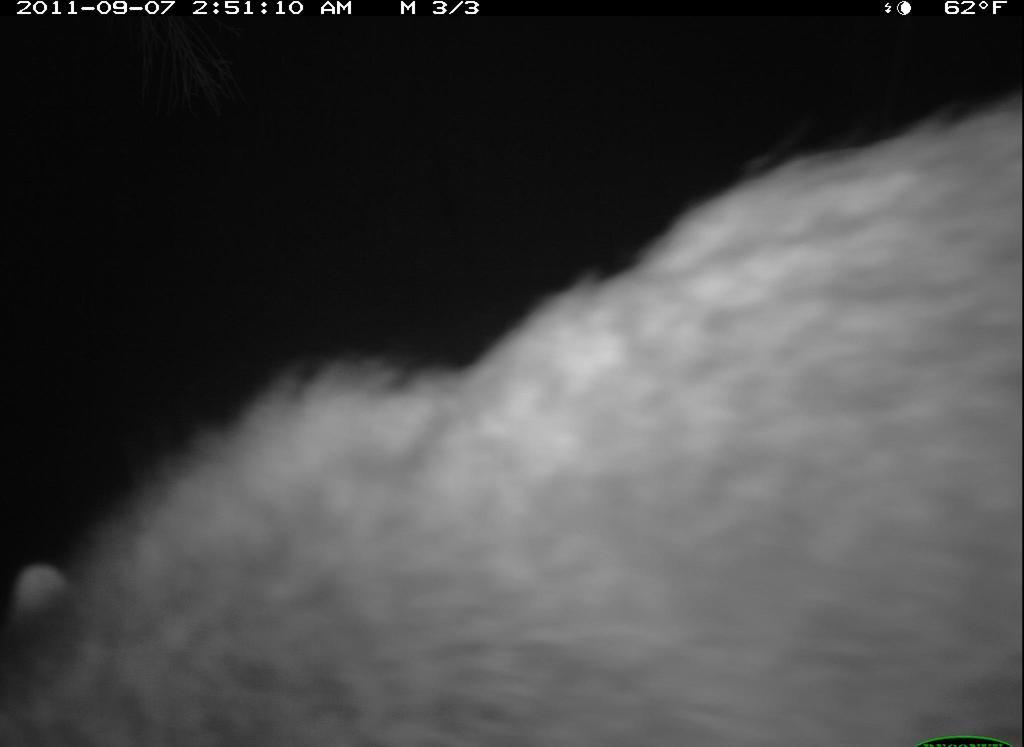raccoon: (17, 102, 1024, 747)
